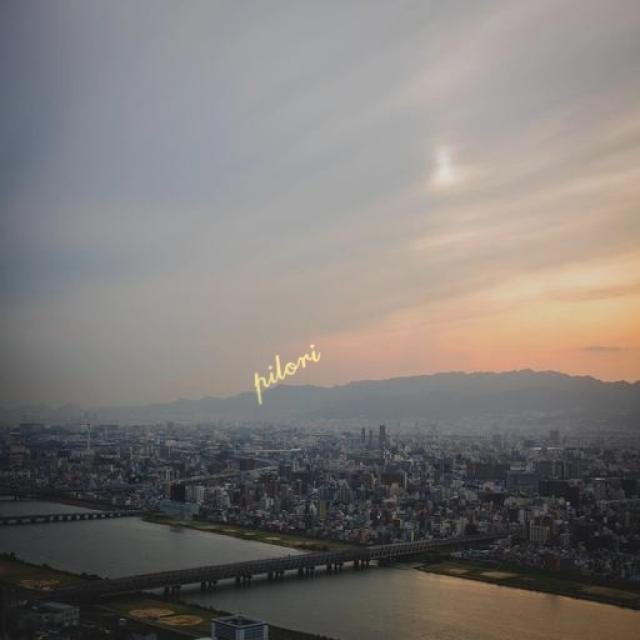watermark: (249, 332, 321, 396)
